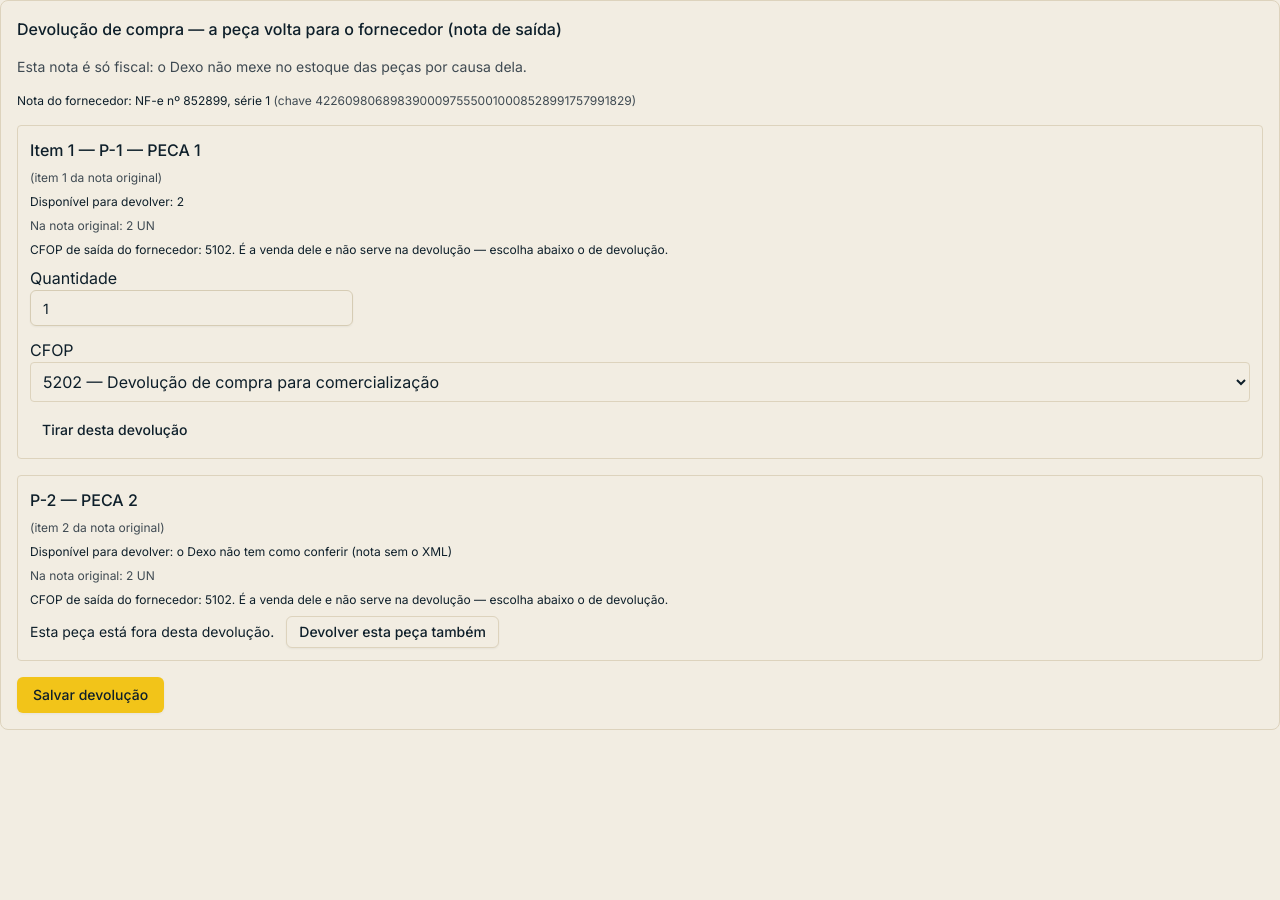
Test case: K11 — a peça tirada VOLTA depois de recarregar a página › saldo desconhecido (pela chave, sem XML): volta com a caixa VAZIA pedindo a quantidade — nunca 0
Click the button "Devolver esta peça também".
click(393, 632)  # box [286, 616, 499, 648]
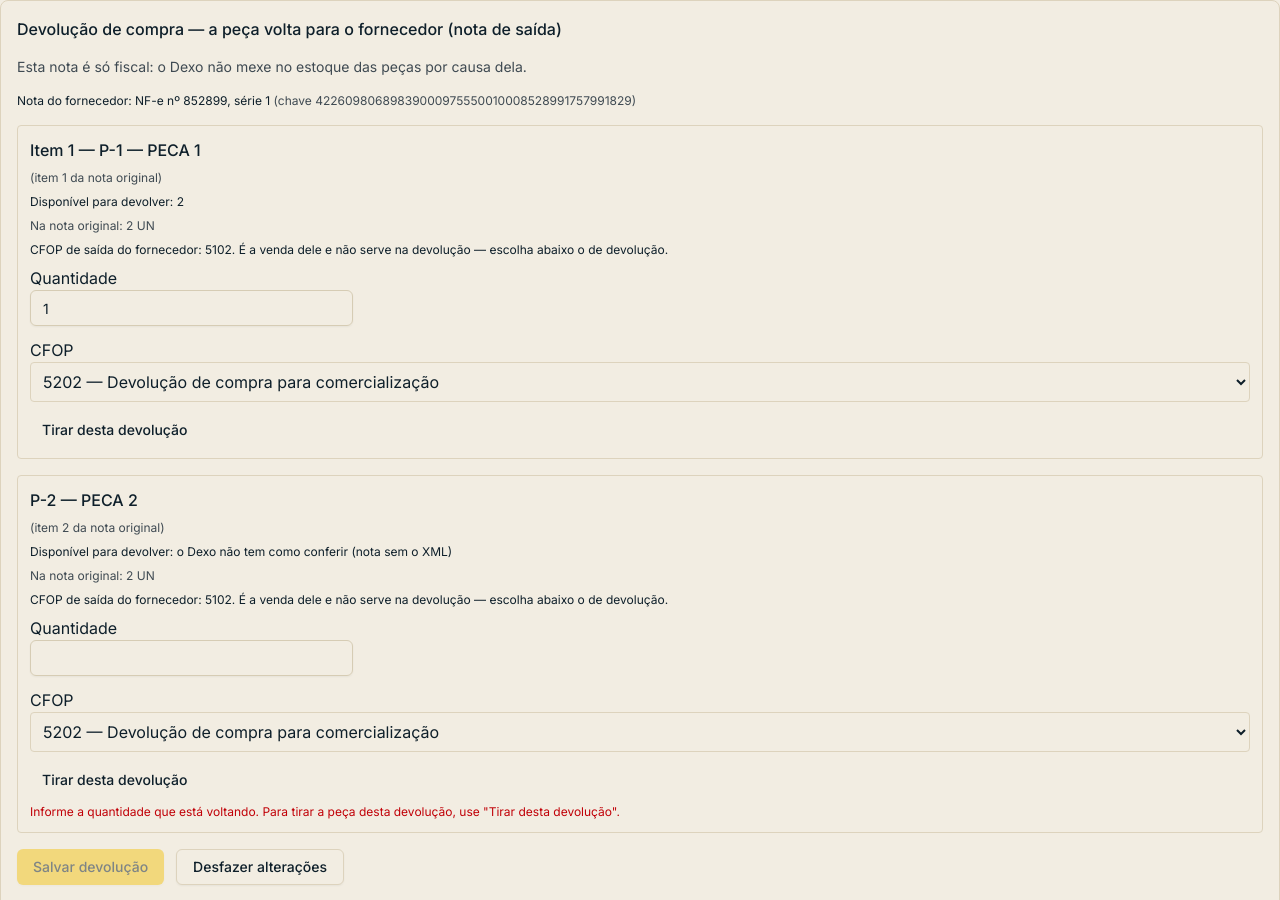
Check: the field named "Quantidade" is empty, box [30, 640, 353, 676]
Check: the button "Salvar devolução" is disabled, box [17, 849, 164, 885]
